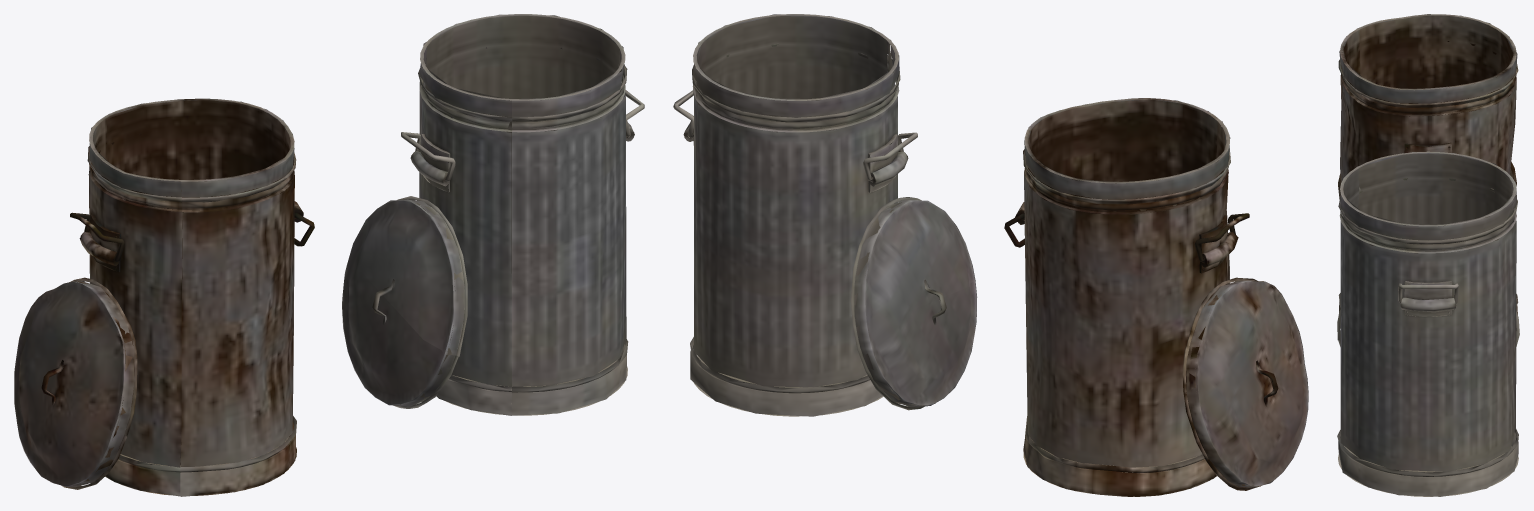
File: metal_trash_can.glb
The picture shows the model from 3 angles, left to right: view 1: azimuth 30°, elevation 25°; view 2: azimuth 150°, elevation 25°; view 3: azimuth 270°, elevation 25°; orthographic projection. The views are drawn at different scales.
Visible parts, largest first — view 1: metal_trash_can, metal_trash_can_rust, metal_trash_can_lid, metal_trash_can_rust_lid; view 2: metal_trash_can, metal_trash_can_rust, metal_trash_can_lid, metal_trash_can_rust_lid; view 3: metal_trash_can, metal_trash_can_rust, metal_trash_can_handle_right, metal_trash_can_lid.
Boxes of the visible parts, x1,y1,x2,y2 form: metal_trash_can: (410,14,634,415); metal_trash_can_rust: (79,98,303,496); metal_trash_can_lid: (342,196,467,408); metal_trash_can_rust_lid: (14,277,137,489); metal_trash_can: (683,14,908,416); metal_trash_can_rust: (1015,98,1238,496); metal_trash_can_lid: (850,197,977,410); metal_trash_can_rust_lid: (1182,277,1308,490); metal_trash_can: (1337,151,1518,496); metal_trash_can_rust: (1338,14,1518,314); metal_trash_can_handle_right: (1398,283,1458,303); metal_trash_can_lid: (1337,310,1519,346).
Size of the model in its own units: 1.78 by 0.9063 by 0.5568.
Materials: 2 (2 with a texture image).
